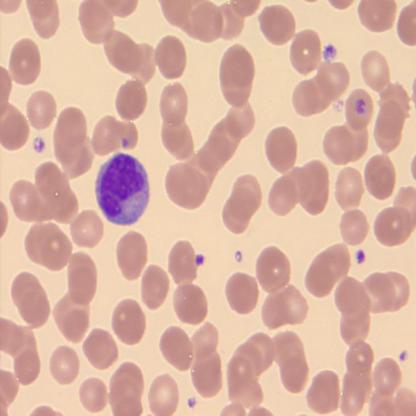Monocyte: (93, 150, 151, 228)
